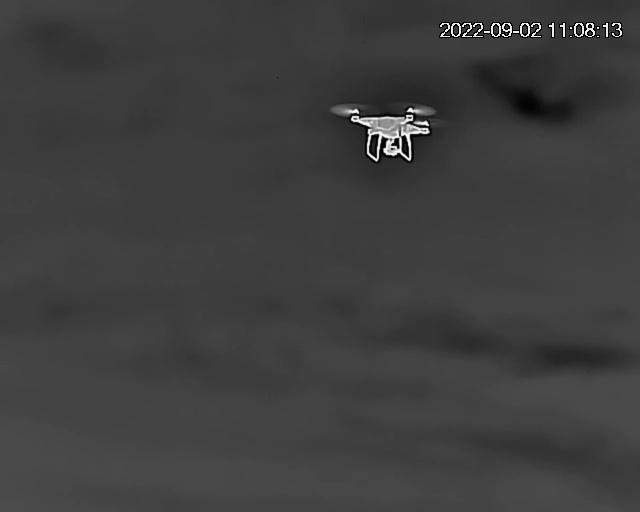DJI-Phantom: (336, 106, 443, 164)
